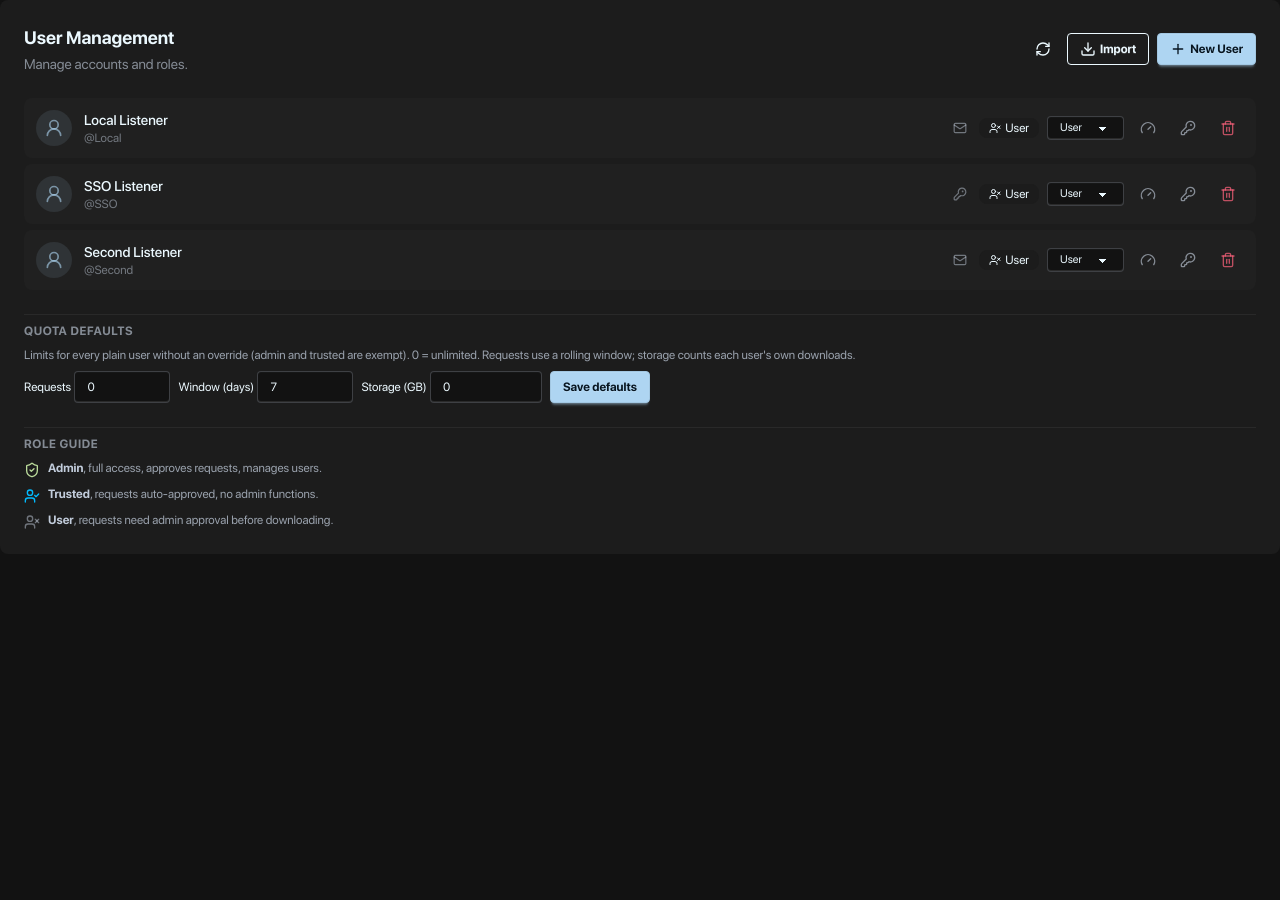
it: SettingsUsers password recovery › does not show a stale code after the dialog moves to another user
Expected: the text "Local Listener" is shown, [84,112,168,128]
Click the button named "Create recovery code for Local Listener": (1188, 128) [1172,112,1204,144]
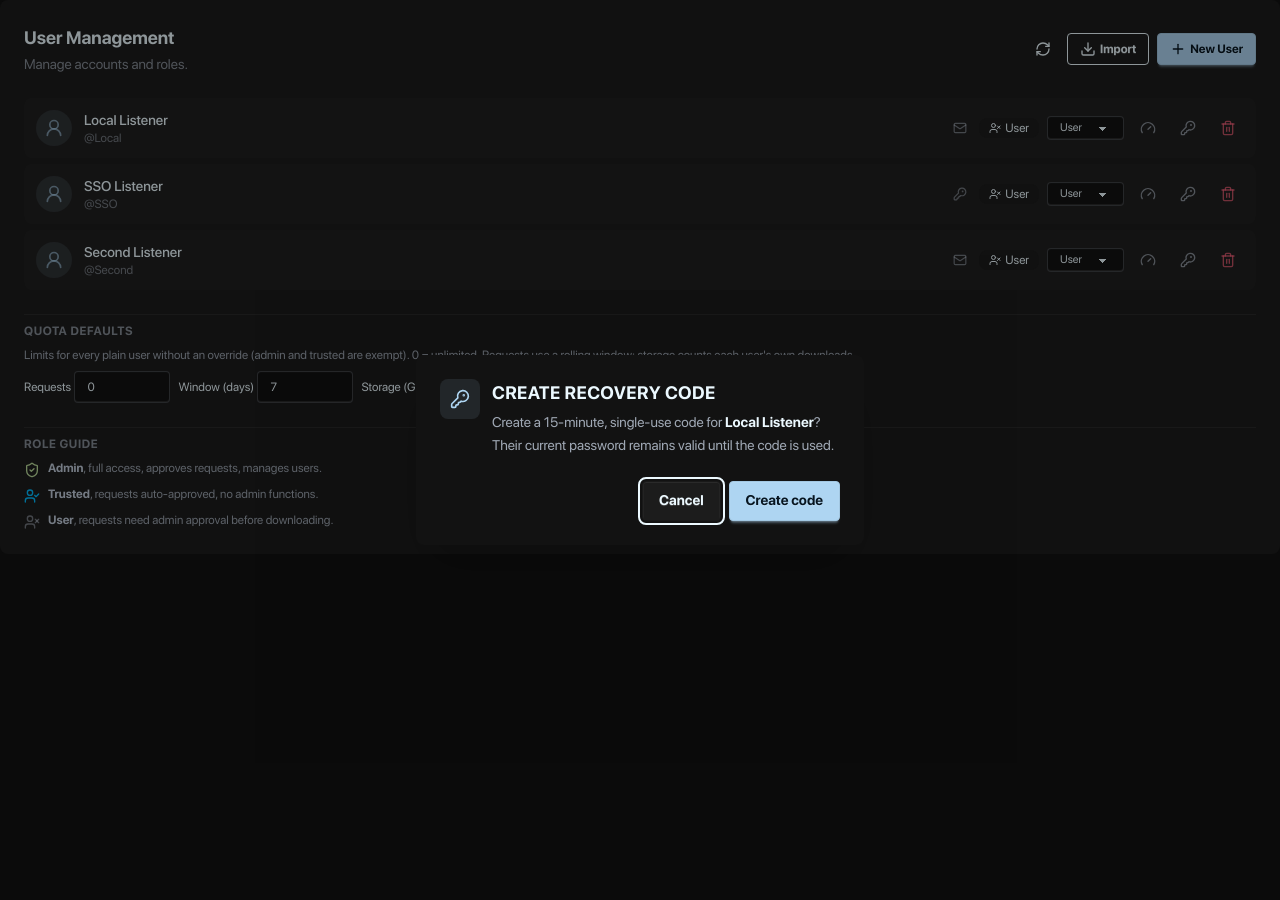
Click the button "Create code": (784, 501) [729,481,840,521]
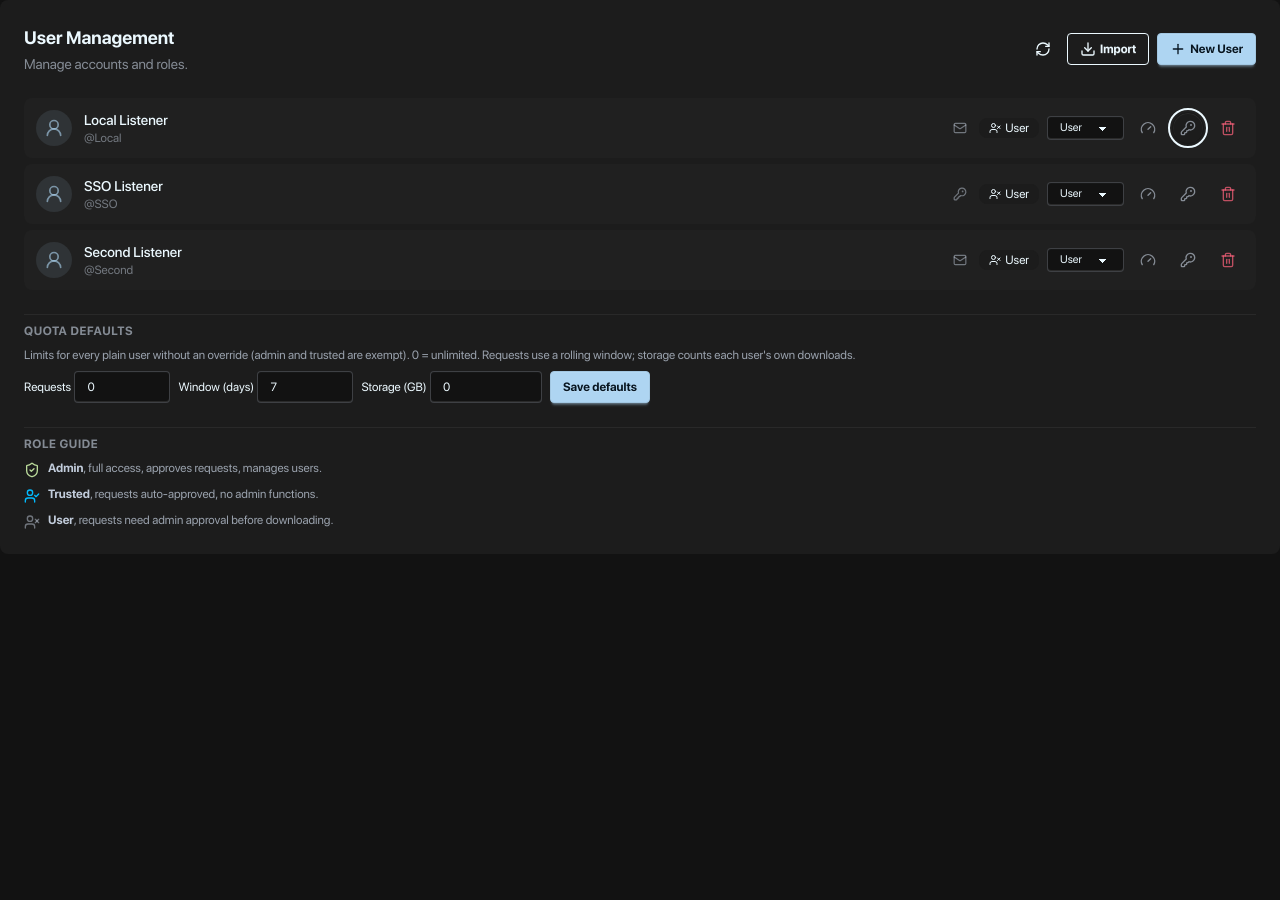
Click the button named "Create recovery code for Second Listener": (1188, 260) [1172,244,1204,276]
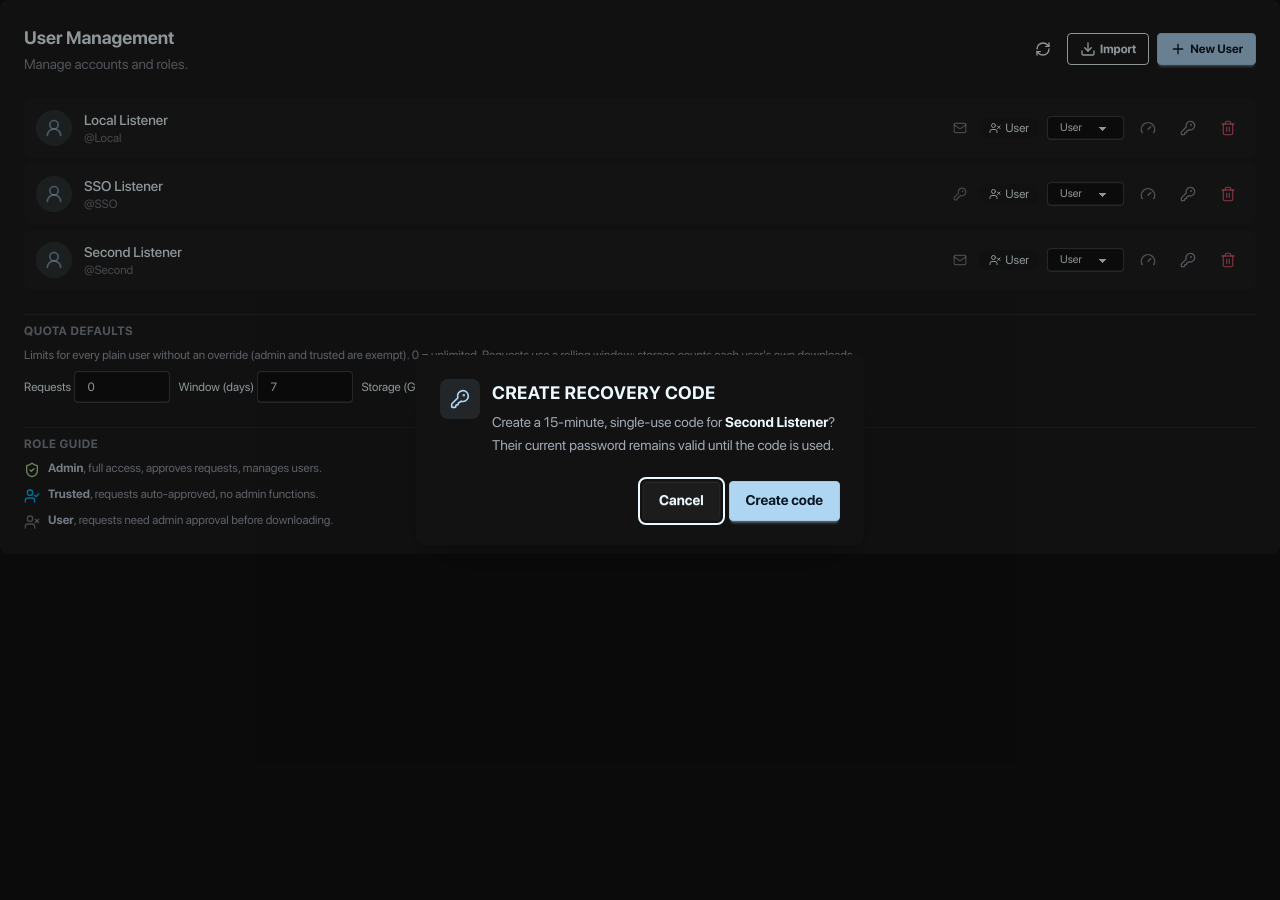
Click the button "Create code": (784, 501) [729,481,840,521]
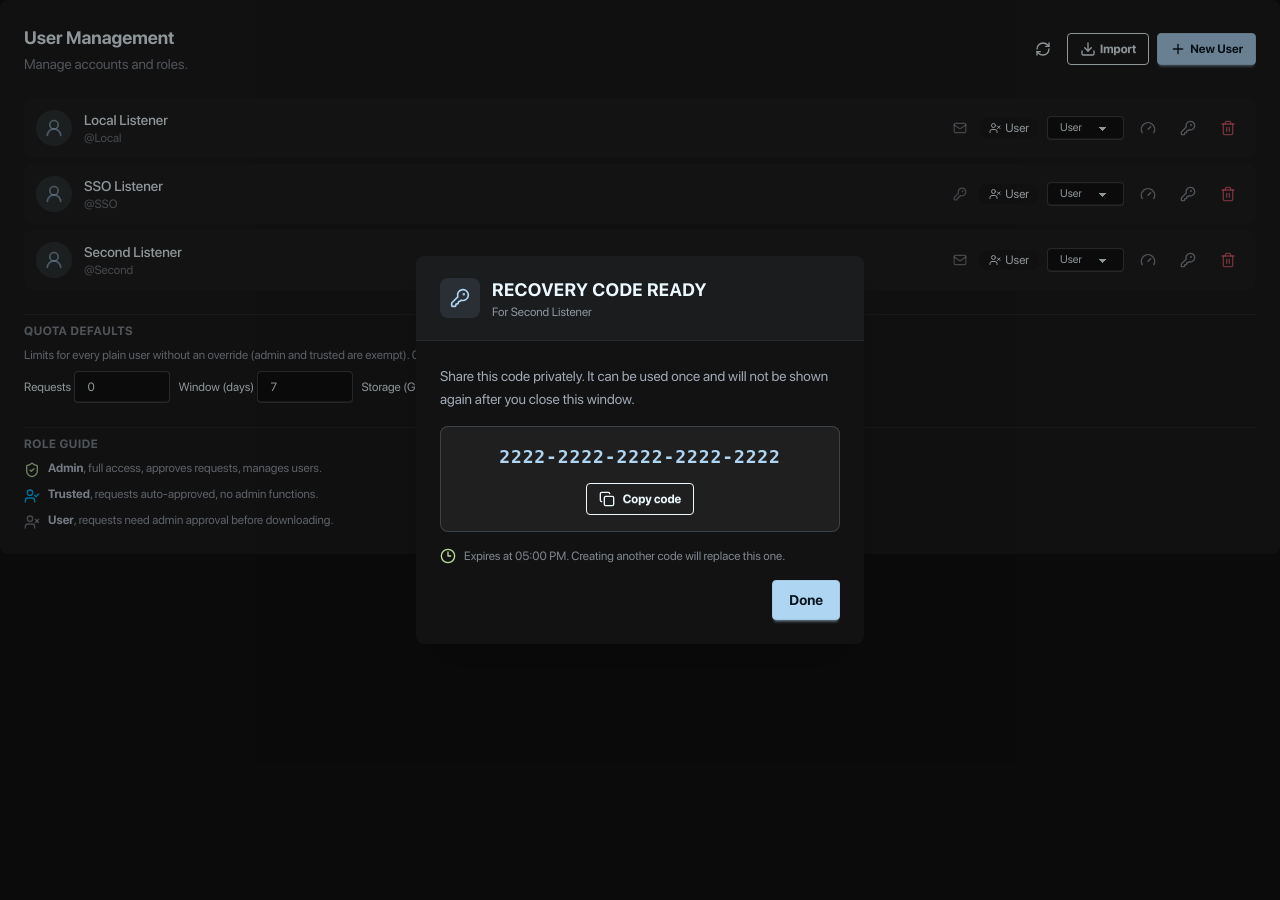
Now the text "2222-2222-2222-2222-2222" is shown, box [499,446,781,467]
